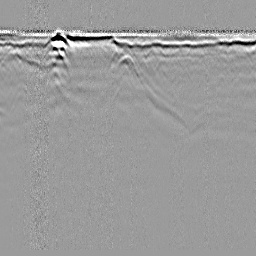cavity: (116, 52, 135, 67)
